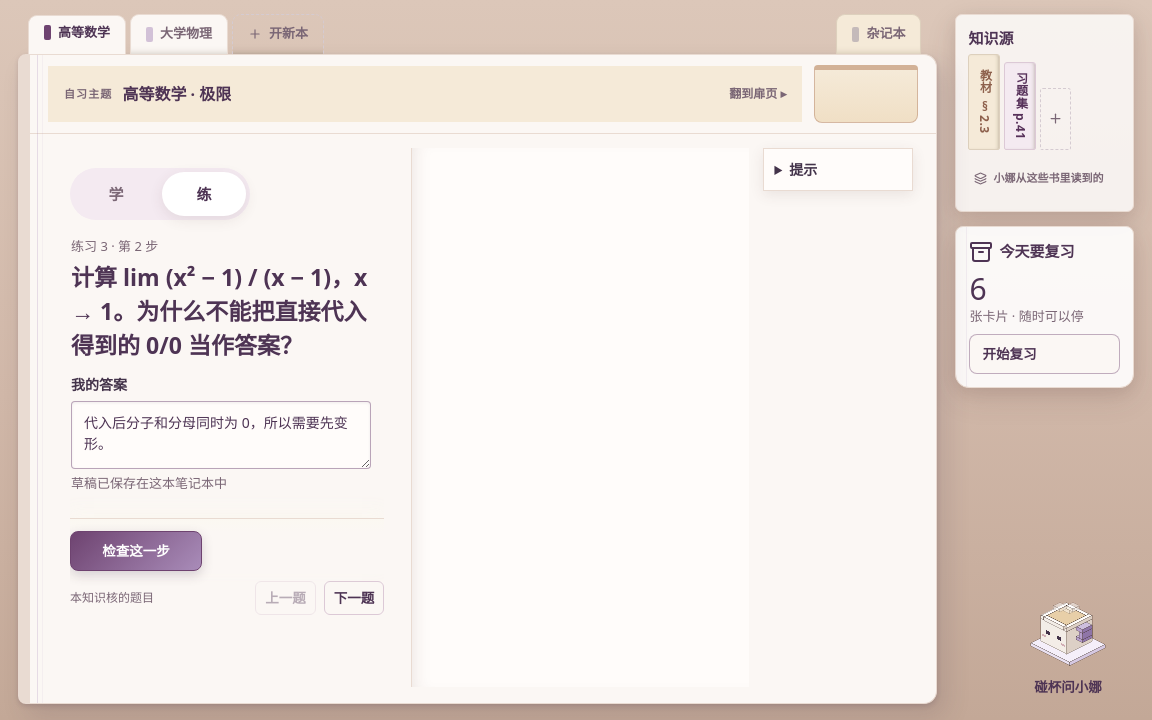
Test: DeskScene FE-01 preview › keeps the answer label singular and reveals only one concise clue
Expected: the heading "计算 lim (x² − 1) / (x − 1)，x → 1。为什么不能把直接代入得到的 0/0 当作答案？" is shown, [71, 260, 371, 362]
Expected: the text "我的答案" is shown, [71, 374, 127, 395]
What coordinates should you click on to do the following:
click the heading "提示"
I would click on:
 (803, 170)
Its box is [789, 160, 817, 179].
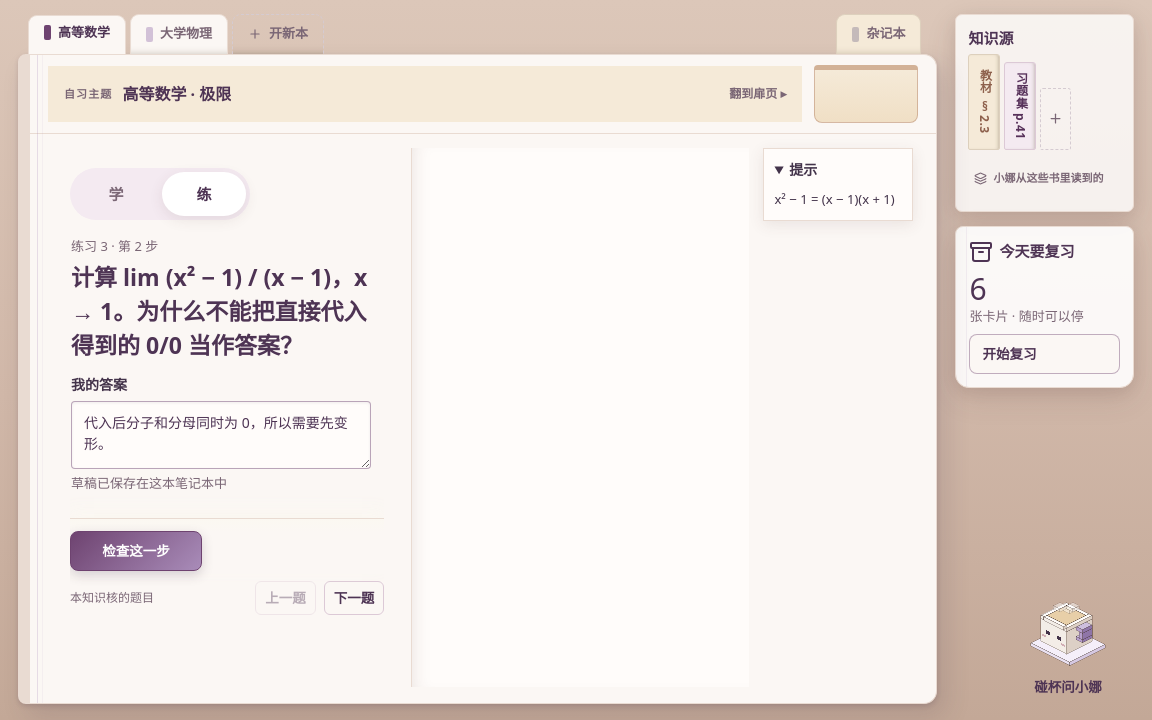
Expected: the text "x² − 1 = (x − 1)(x + 1)" is shown, [774, 190, 902, 210]
